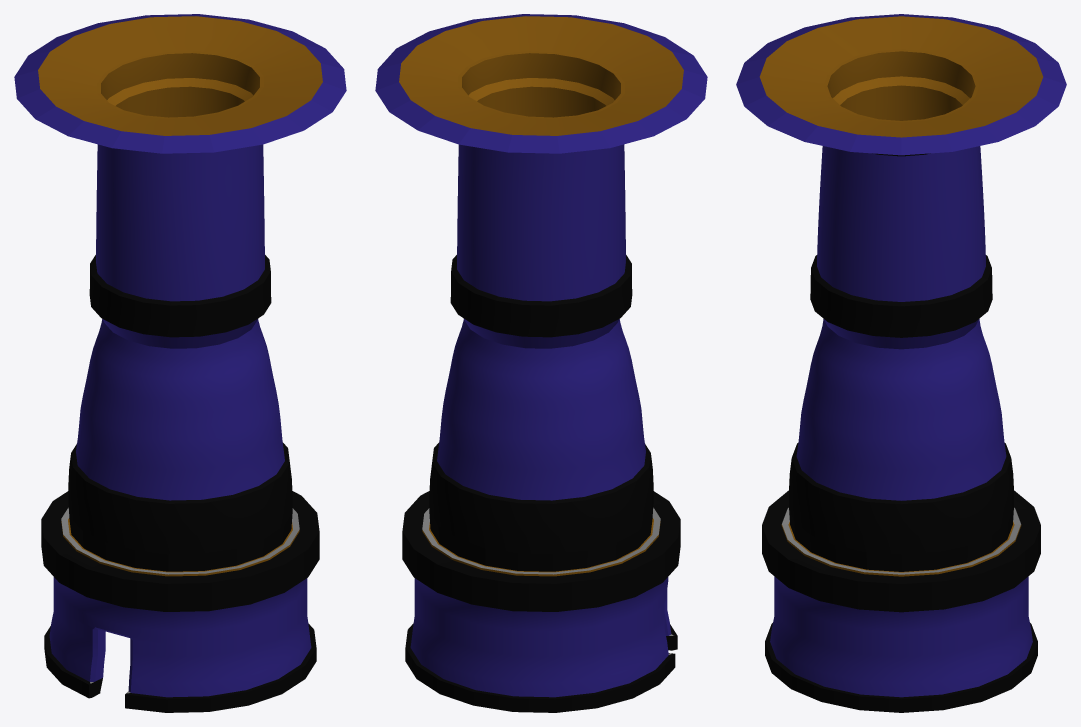
The model's file is Clock Tower Base.fbx.
3 renders of one model, left to right at view 1: azimuth 30°, elevation 25°; view 2: azimuth 150°, elevation 25°; view 3: azimuth 270°, elevation 25°, orthographic.
Visible parts, largest first — view 1: polySurface7 (×4); view 2: polySurface7 (×4); view 3: polySurface7 (×4).
Boxes of the visible parts, left/top/right/bottom form: polySurface7 (×4): left=14, top=14, right=346, bottom=712; polySurface7 (×4): left=375, top=14, right=707, bottom=712; polySurface7 (×4): left=736, top=14, right=1066, bottom=712.
Bounding box in the file's own units: 539 × 1029 × 533.
